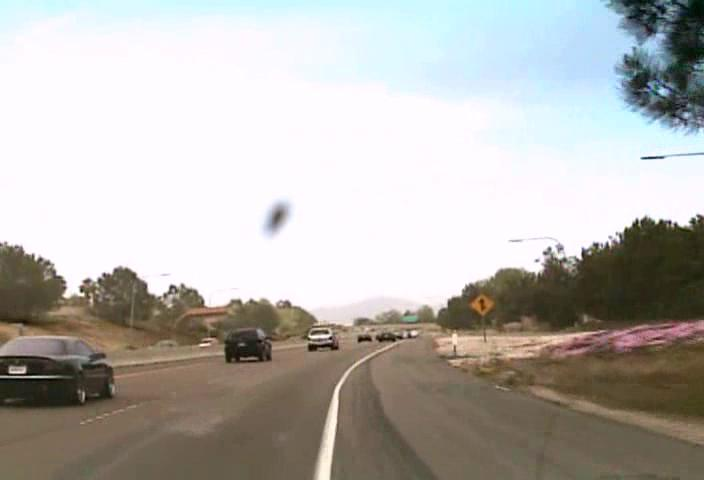merge: (468, 292, 494, 317)
